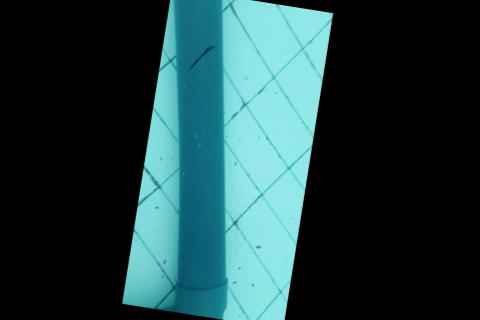keretakan: (187, 39, 218, 75)
